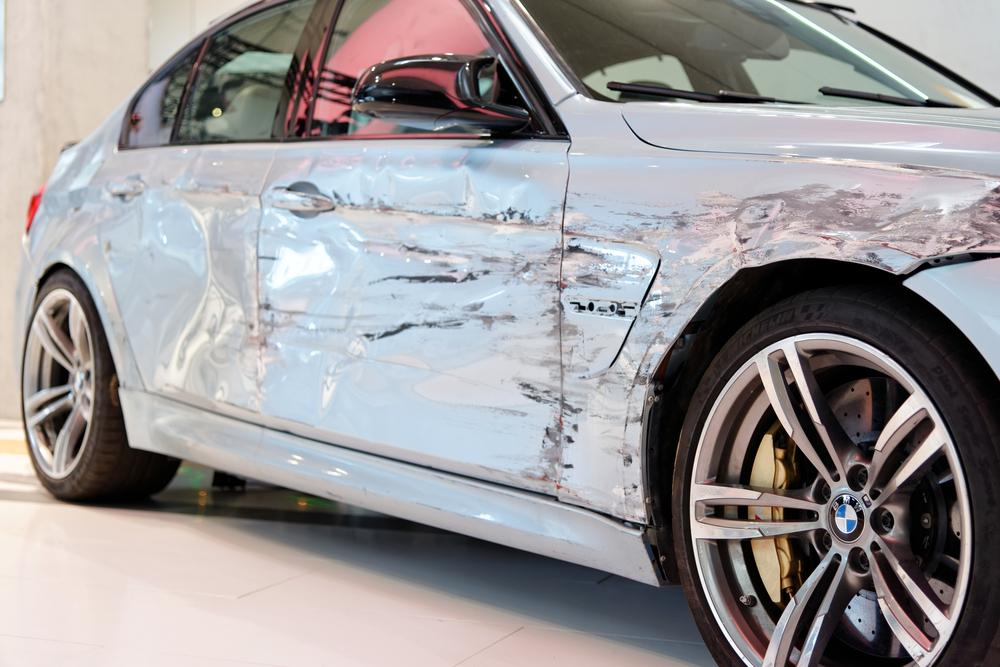dent: (262, 166, 564, 424), (109, 196, 227, 394)
scratch: (556, 180, 1000, 515)
